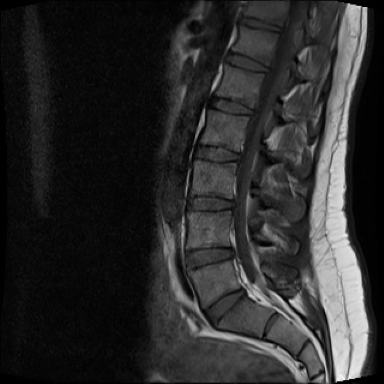Degenerative Disc Disease (DDD): (236, 13, 286, 36)
Lumbar Disc Bulge (LDB): (181, 242, 237, 274)
Normal IVD: (202, 283, 250, 327), (220, 47, 275, 78), (203, 91, 258, 122), (186, 140, 247, 167), (178, 192, 240, 217)
Spinal Stenosis (SS): (226, 243, 240, 263)
